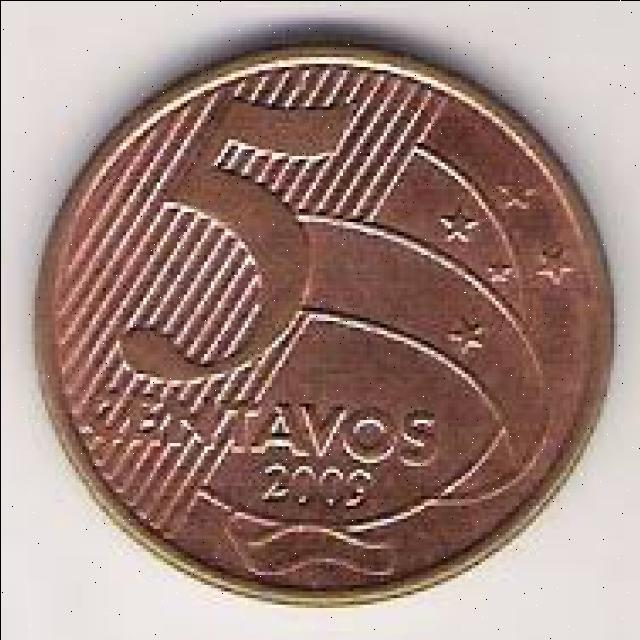5 cent: (40, 42, 622, 603)
